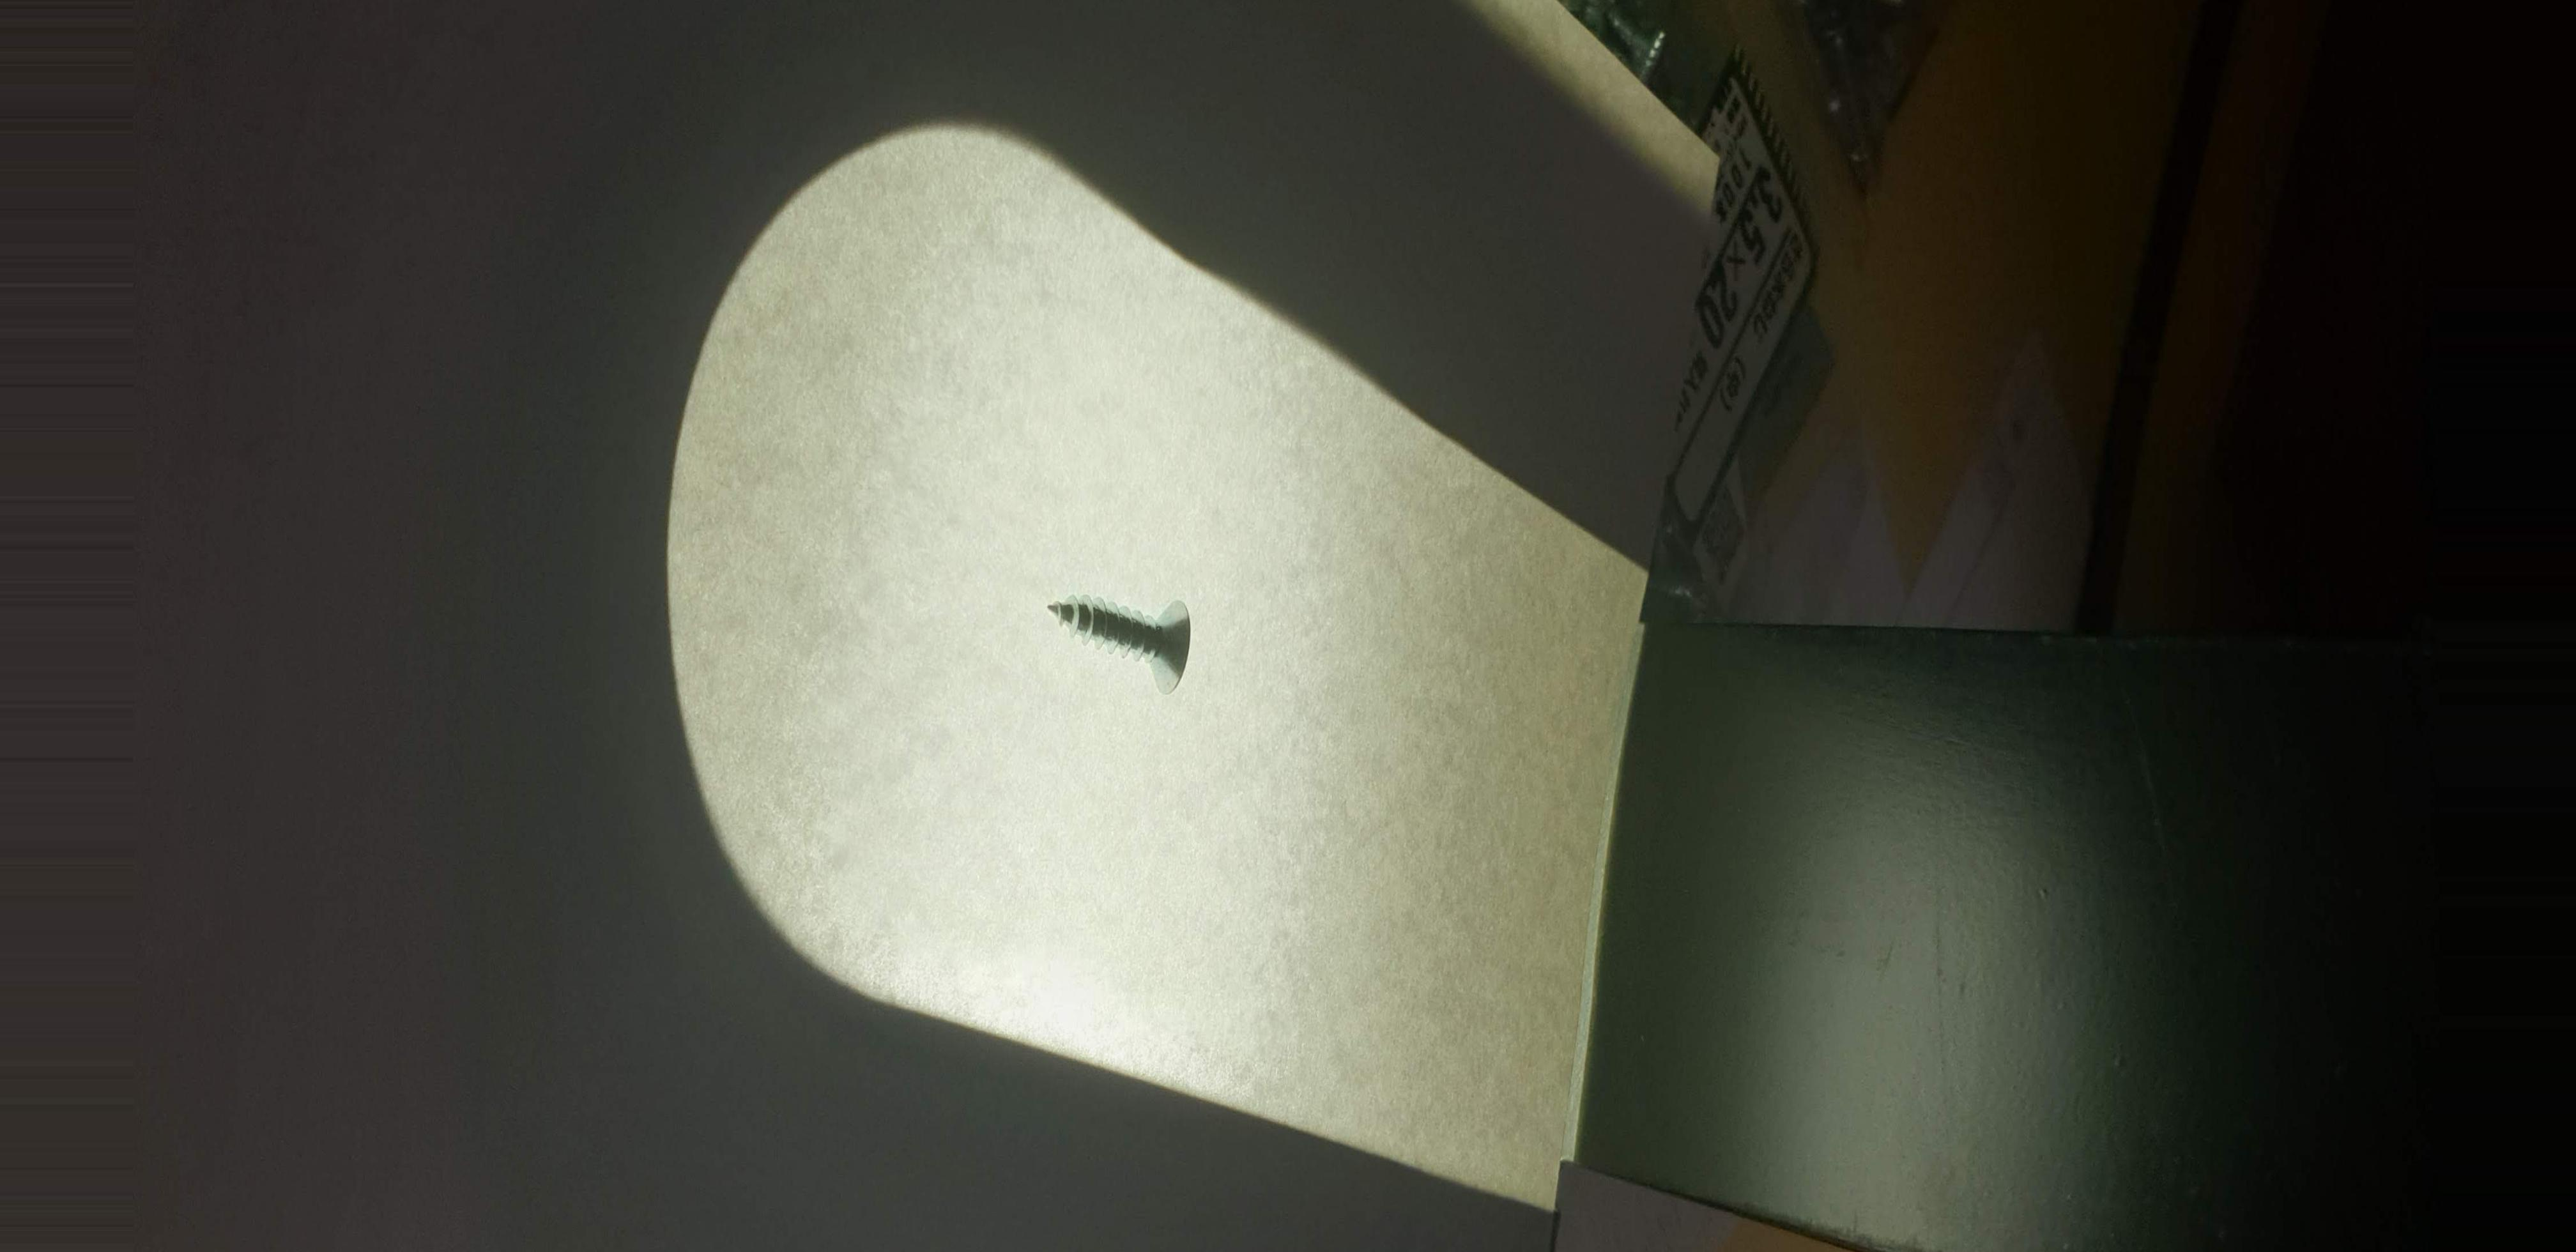S003: (1024, 560, 1239, 715)
